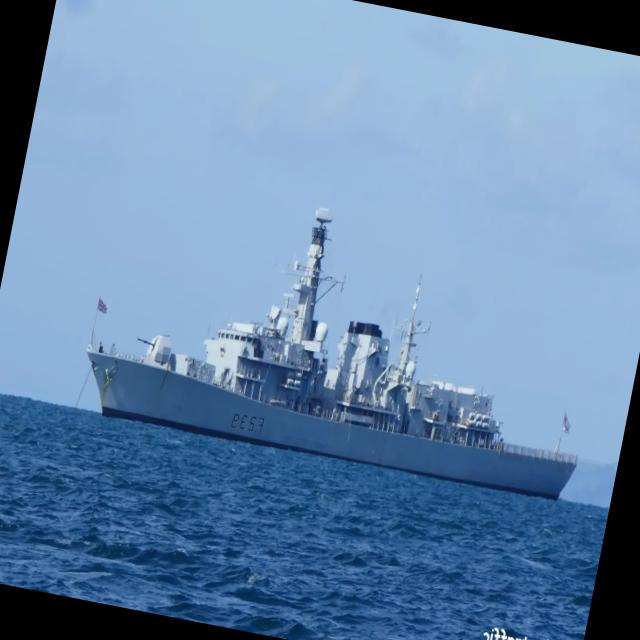Military: (88, 208, 577, 499)
